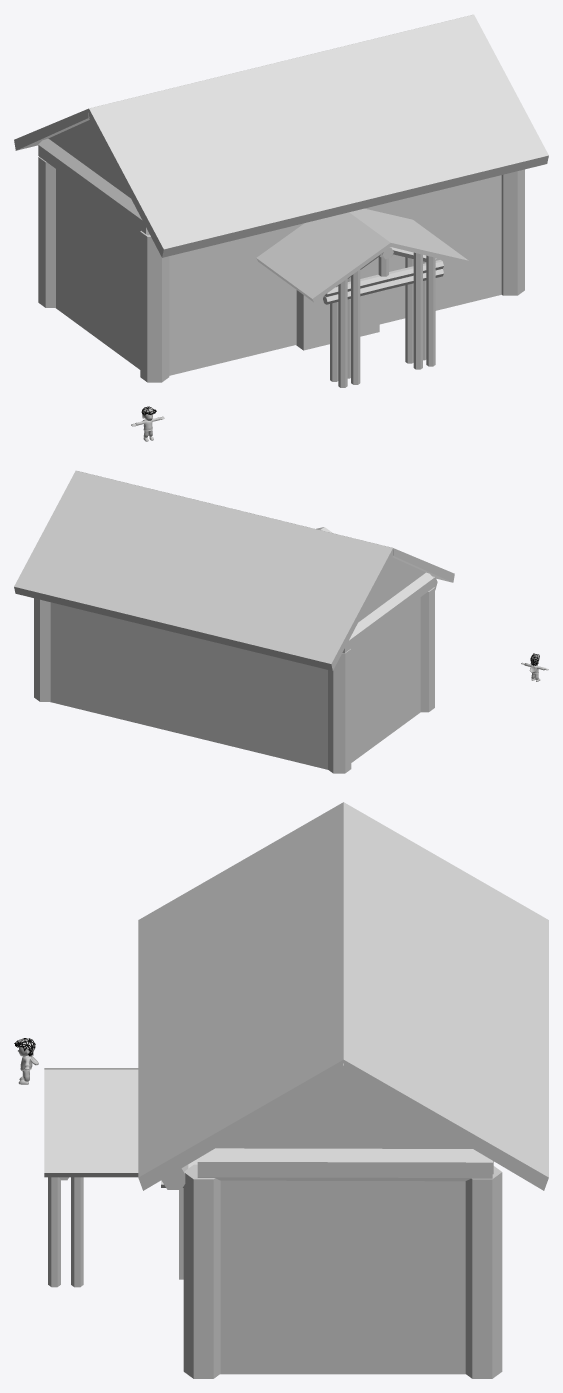
Rendered from cabin.fbx.
3 renders of one model, top to bottom at view 1: azimuth 30°, elevation 25°; view 2: azimuth 150°, elevation 25°; view 3: azimuth 270°, elevation 25°, orthographic. The views are drawn at different scales.
Parts seen in each view (by area): view 1: Cylinder; view 2: Cylinder; view 3: Cylinder.
Part boxes in pixels (<box>): Cylinder: <box>14,14,548,387</box>; Cylinder: <box>14,470,454,773</box>; Cylinder: <box>44,802,548,1378</box>.
Size of the model in its own units: 1348 by 666 by 994.
